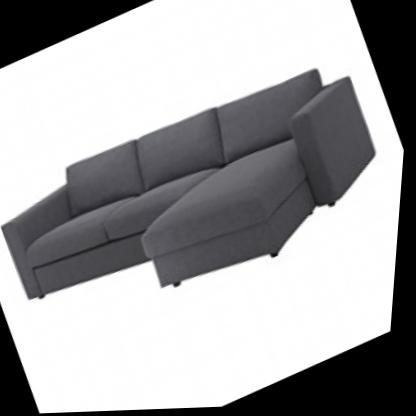Sofa: (0, 7, 415, 383)
